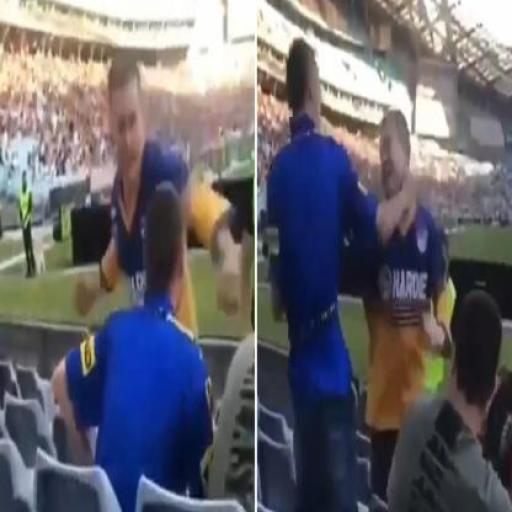Fighting: (56, 54, 256, 512), (273, 45, 459, 512)
